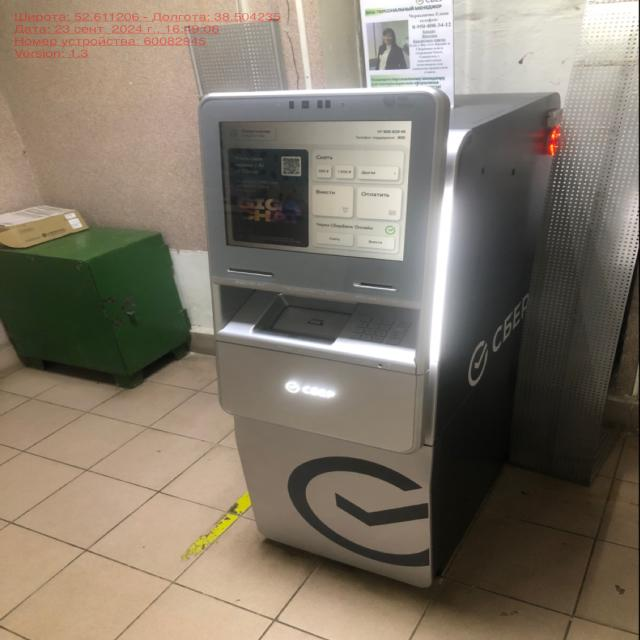bank: (200, 83, 558, 588)
